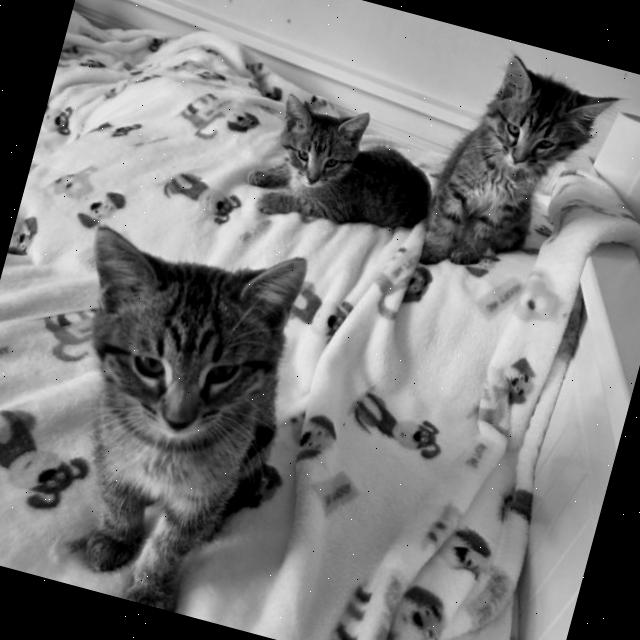domestic_long_hair_cat: (40, 191, 326, 478), (460, 42, 630, 202), (256, 81, 380, 208)
